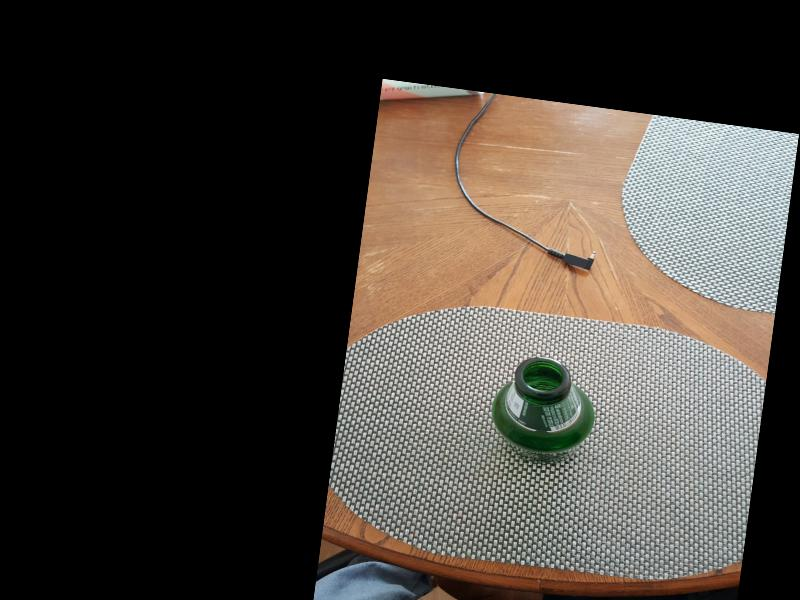Beer: (491, 353, 597, 467)
